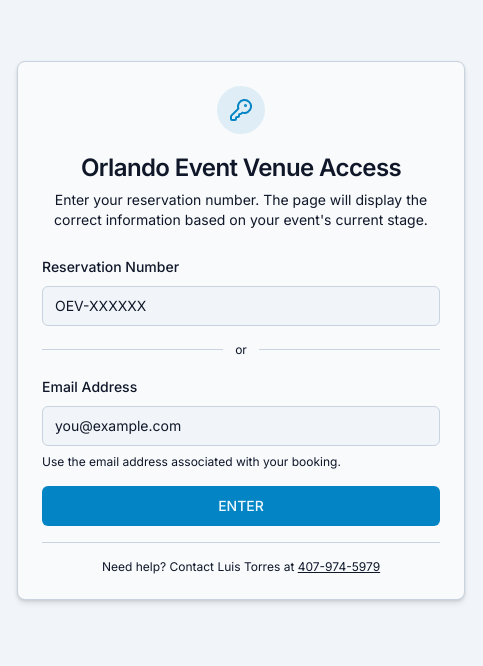
Test: AccessCode — recurring access codes › handles recurring_code_expired
The image size is (483, 666).
Type "OEV-RGST01" into the field labelled "Reservation Number" at (241, 306), box [42,286,440,326]
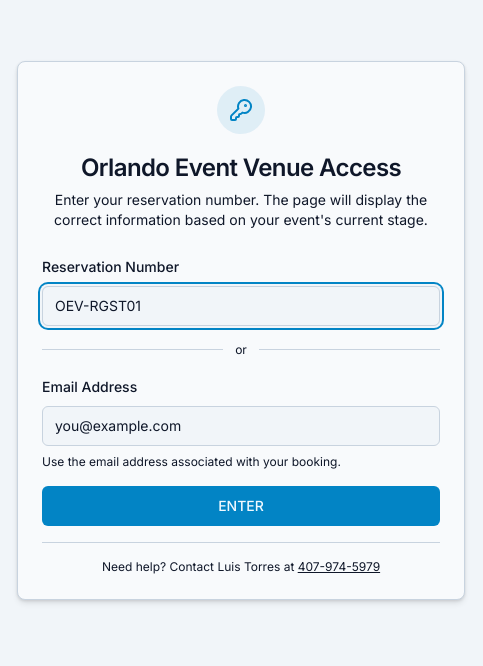
Click the button "ENTER" at (241, 506), box [42,486,440,526]
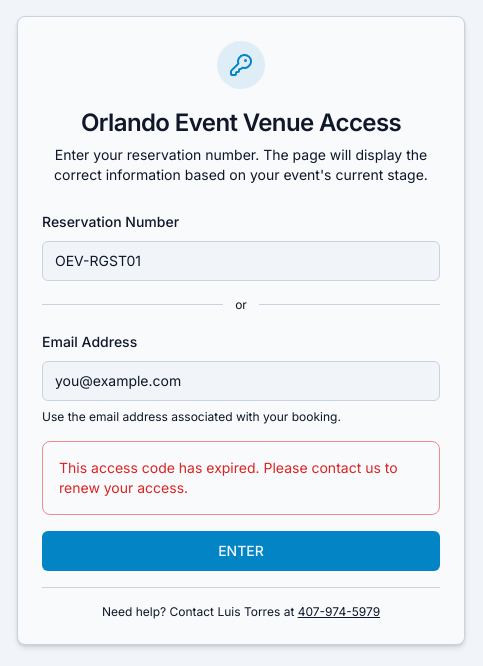
Expected: the text "has expired" is shown, [59,458,398,496]
